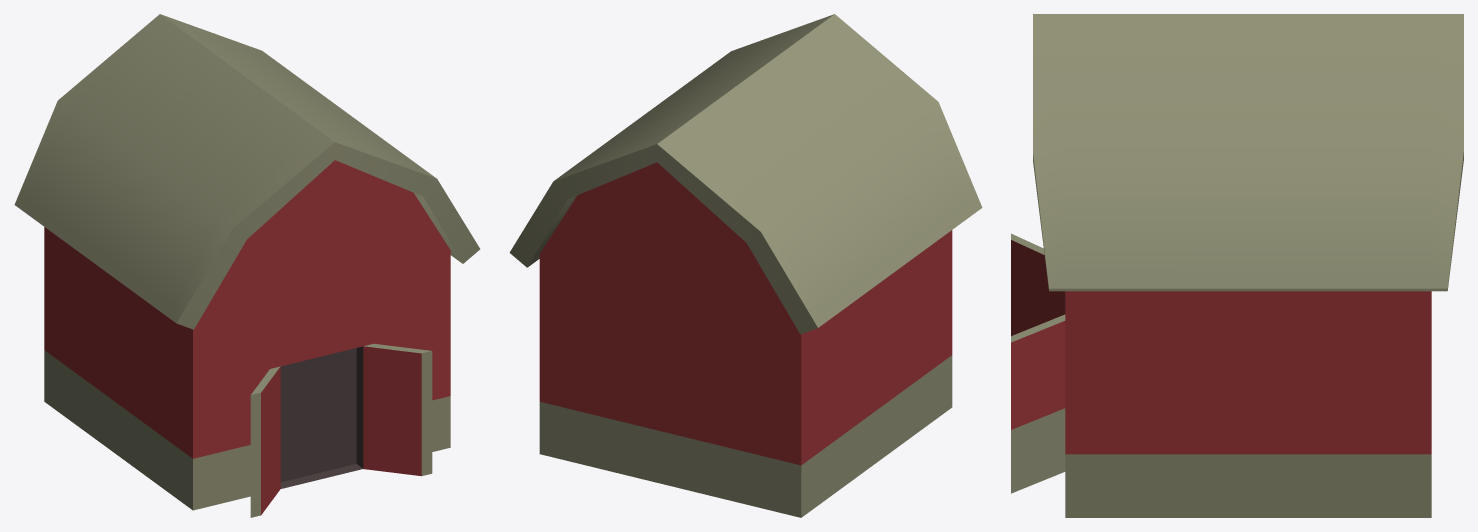
The model's file is Barn.fbx.
3 views of the same model, side by side, from view 1: azimuth 30°, elevation 25°; view 2: azimuth 150°, elevation 25°; view 3: azimuth 270°, elevation 25° (orthographic). The views are drawn at different scales.
Visible parts, largest first — view 1: pCube7; view 2: pCube7; view 3: pCube7.
Part boxes in pixels (x1,y1,x2,y2): pCube7: (14, 14, 480, 517); pCube7: (509, 14, 982, 517); pCube7: (1011, 14, 1463, 517).
Size of the model in its own units: 846 by 921 by 886.
